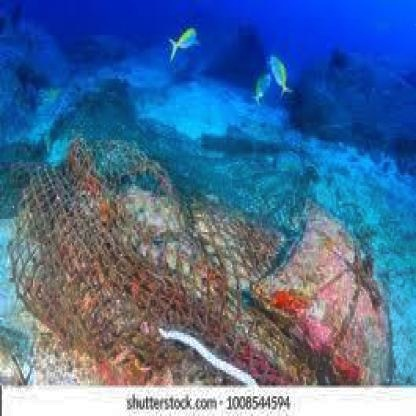net: (16, 123, 317, 381)
